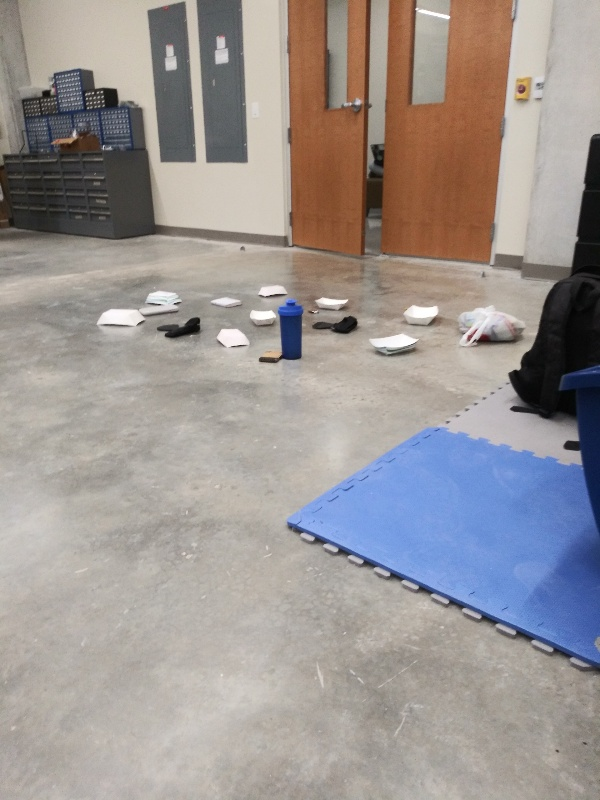plate: (366, 330, 427, 357), (94, 307, 148, 332), (400, 299, 443, 329), (211, 325, 254, 351), (244, 305, 281, 331), (143, 288, 189, 305), (311, 294, 350, 311), (254, 280, 289, 298)
